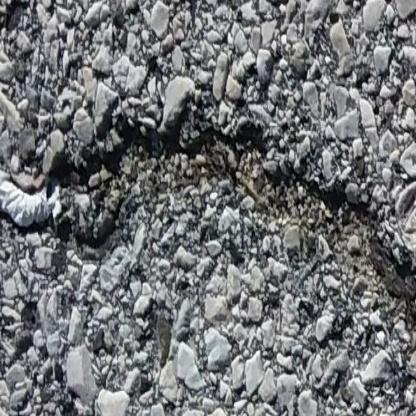Cracks: (0, 114, 416, 353)
